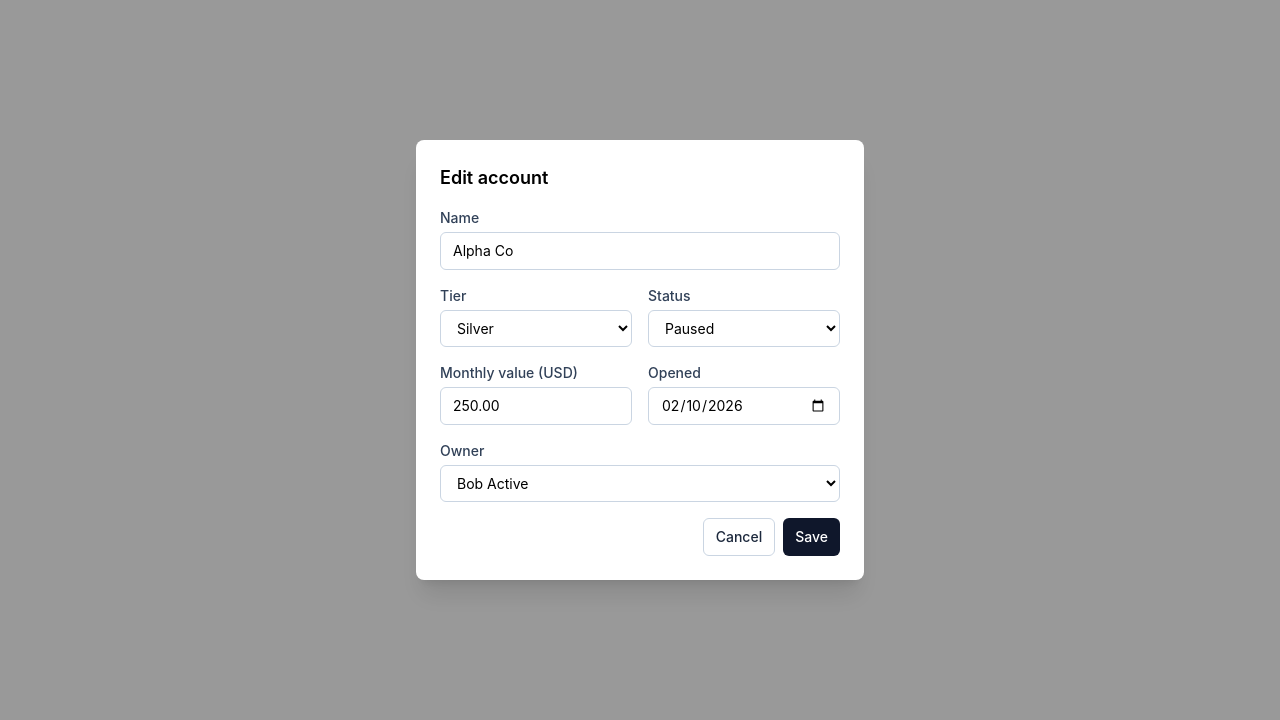
AccountFormModal › shows an API validation error inside the modal and stays open
The width and height of the screenshot is (1280, 720).
Click the button "Save": coordinates (812, 537) [783,518,840,556]
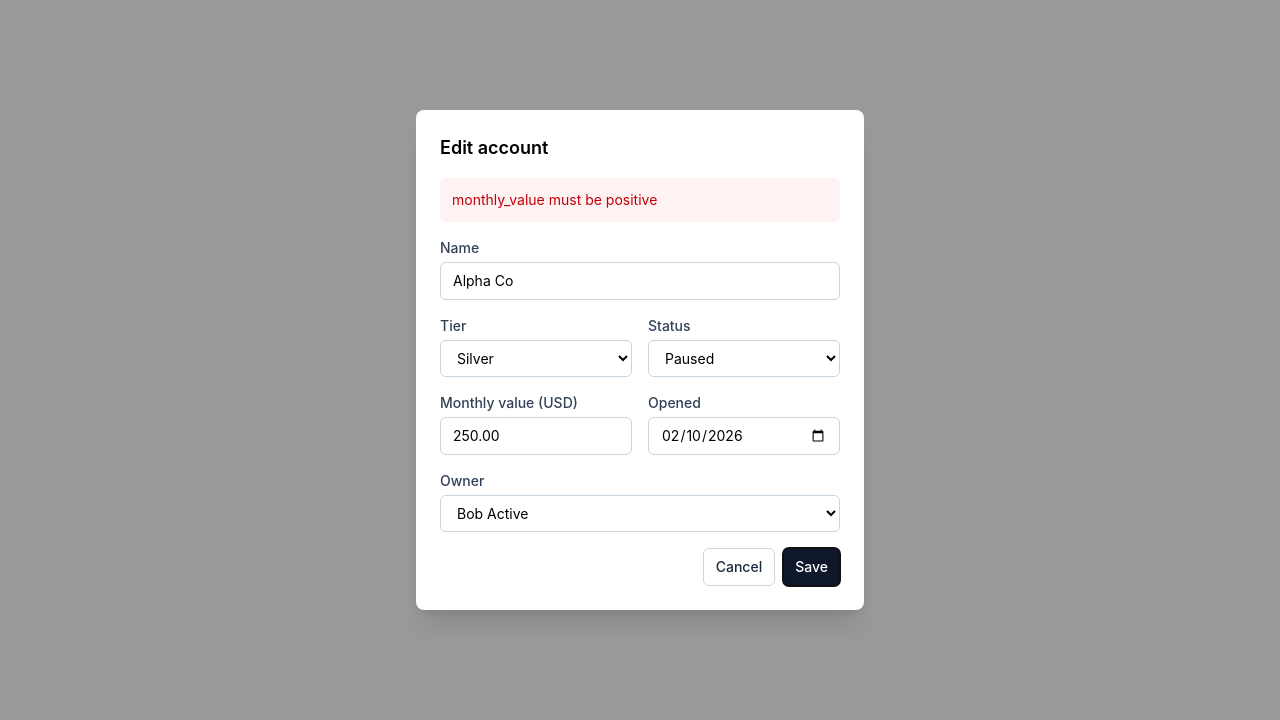
Expected: the dialog "Edit account" is shown, [416,110,864,610]
Now the message reads "monthly_value must be positive", box [452,191,657,208]
